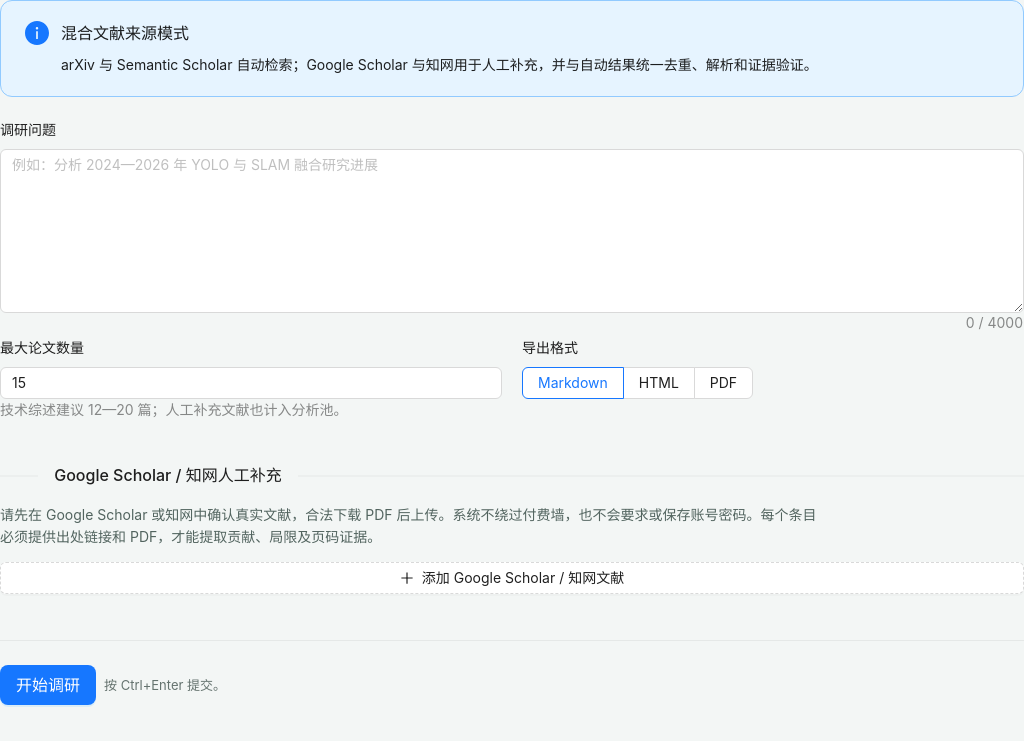
ResearchForm › shows the hybrid source mode and can add a manual paper card
Expected: the text "混合文献来源模式" is shown, [61,23,189,43]
Expected: the text "arXiv 与 Semantic Scholar 自动检索" is shown, [61,56,818,73]
Click the button "添加 Google Scholar / 知网文献" at (512, 578), box [0,562,1023,594]
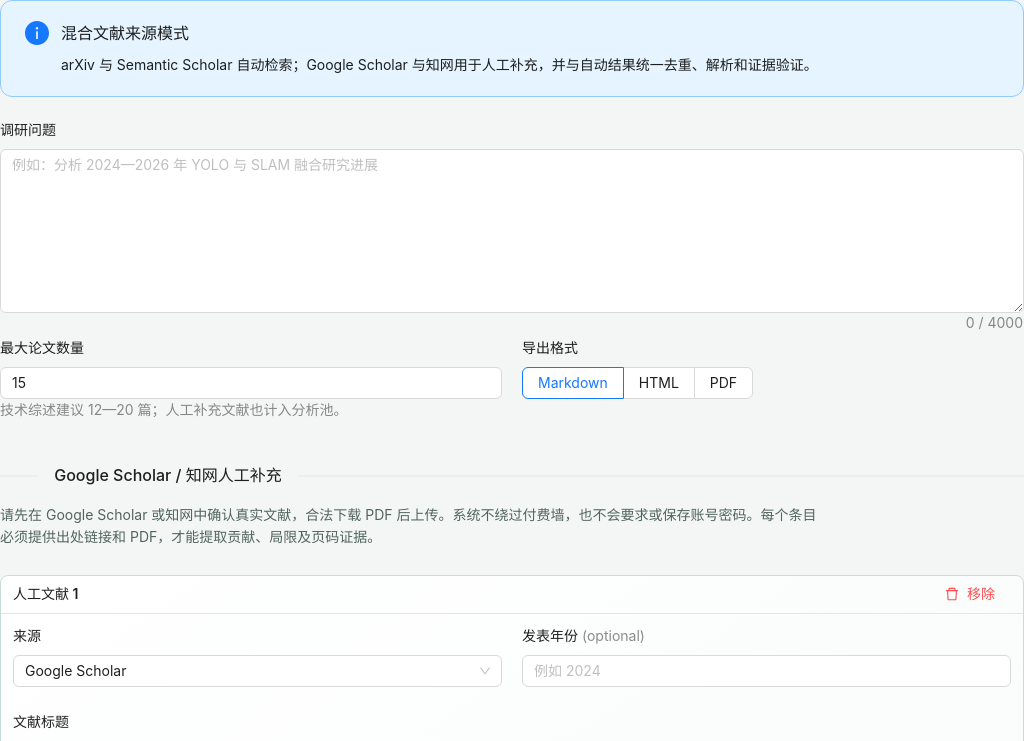
Expected: the text "不会要求或保存账号密码" is shown, [0,506,816,545]
Result: the text "人工文献 1" is shown at [13,585,78,602]
